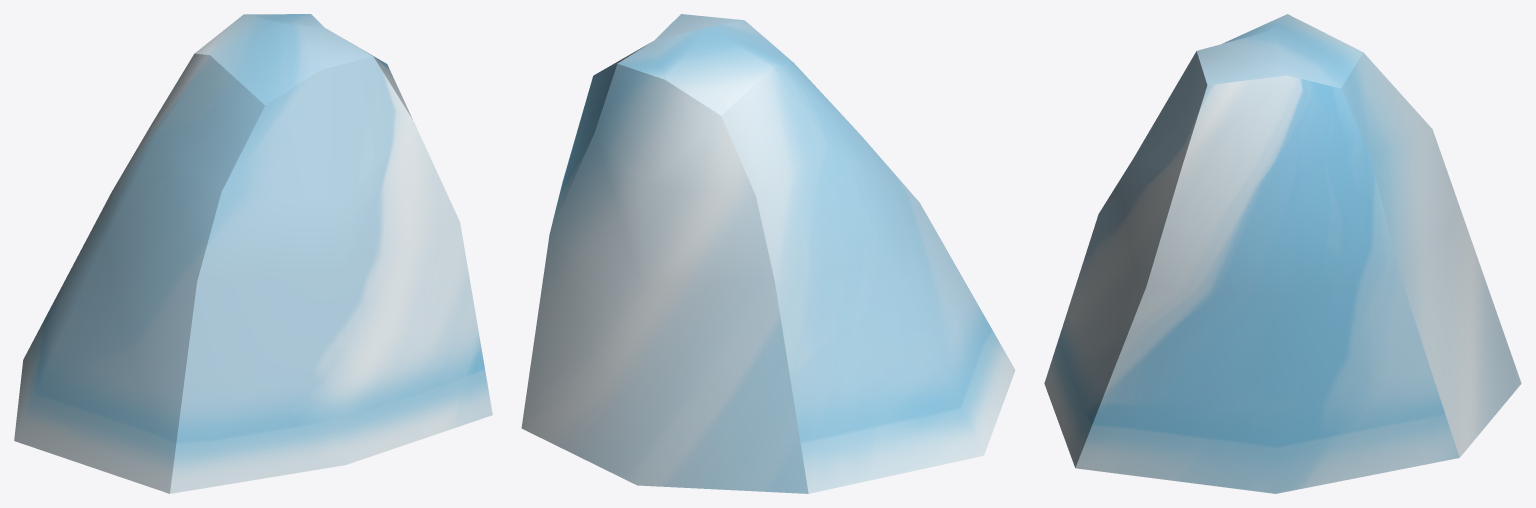
File: ice_02.fbx
The picture shows the model from 3 angles, left to right: view 1: azimuth 30°, elevation 25°; view 2: azimuth 150°, elevation 25°; view 3: azimuth 270°, elevation 25°; orthographic projection. The views are drawn at different scales.
Visible parts, largest first — view 1: pCube4; view 2: pCube4; view 3: pCube4.
Part boxes in pixels (x1,y1,x2,y2): pCube4: [14, 14, 492, 493]; pCube4: [521, 14, 1015, 493]; pCube4: [1044, 14, 1521, 493].
Size of the model in its own units: 18.92 by 14.6 by 16.74.
Materials: 1 (1 with a texture image).
